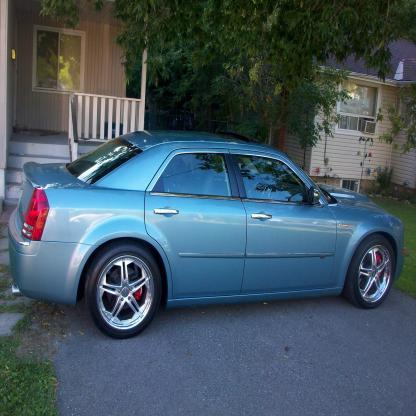Vehicle: (7, 130, 407, 341)
